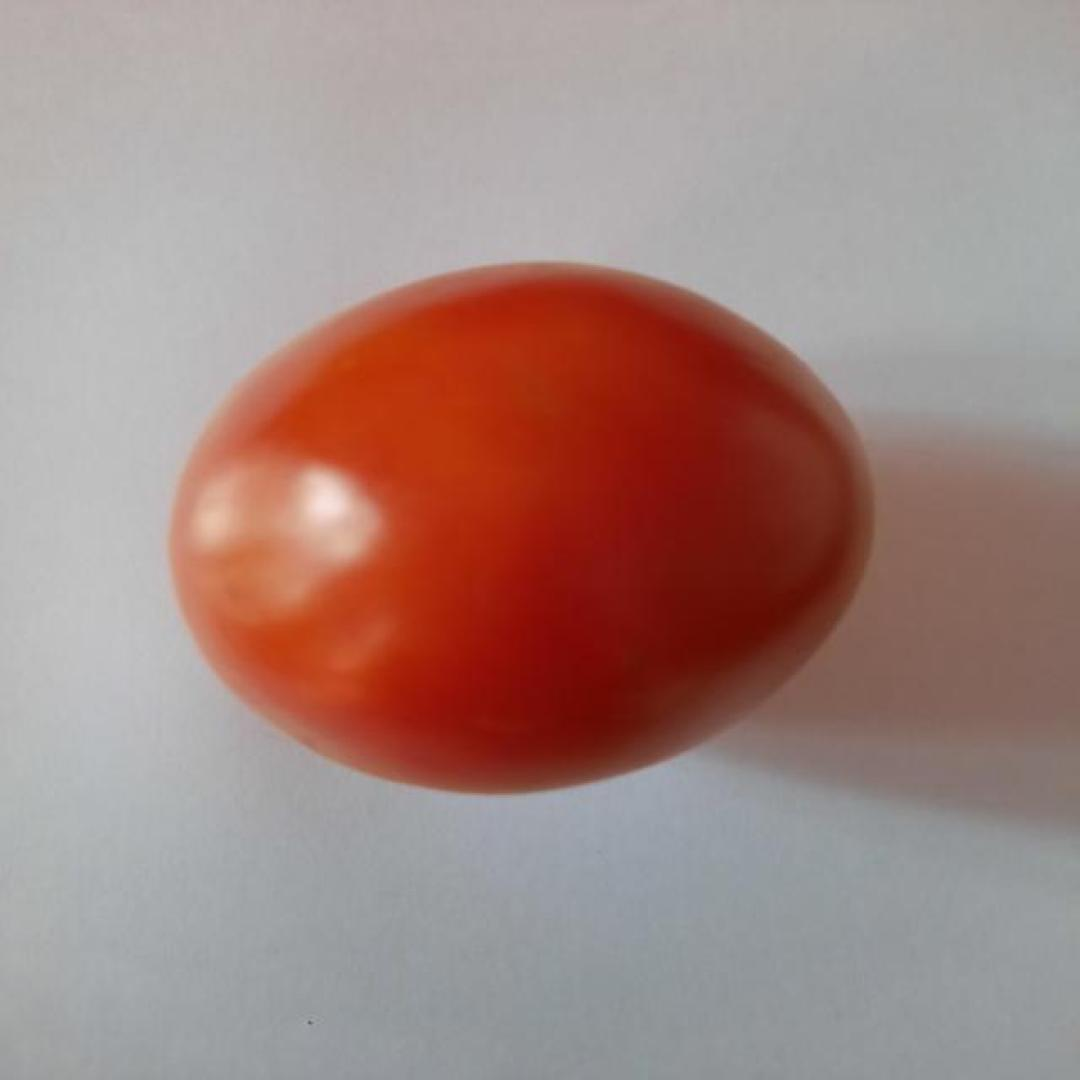matang: (164, 258, 872, 798)
